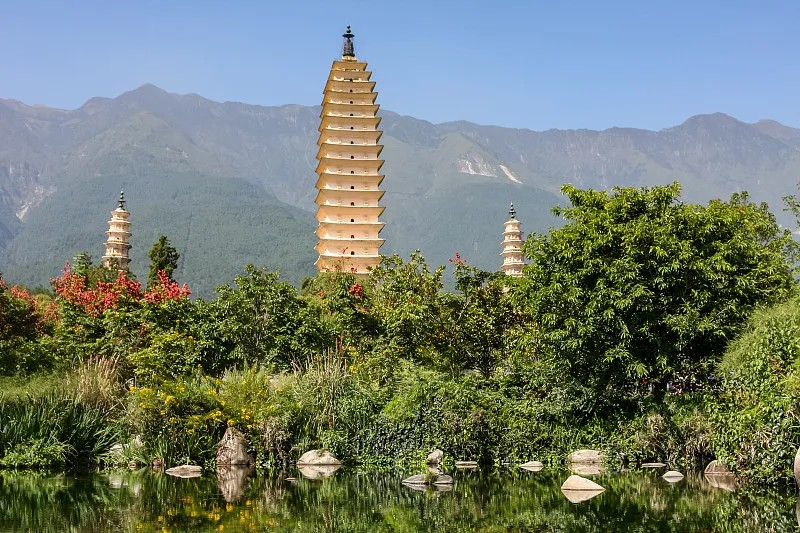ThreePagoda: (313, 26, 385, 272)
